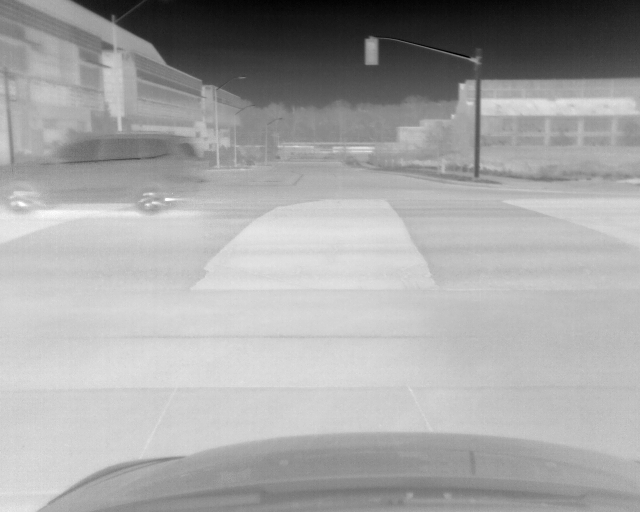car: (1, 134, 209, 216)
